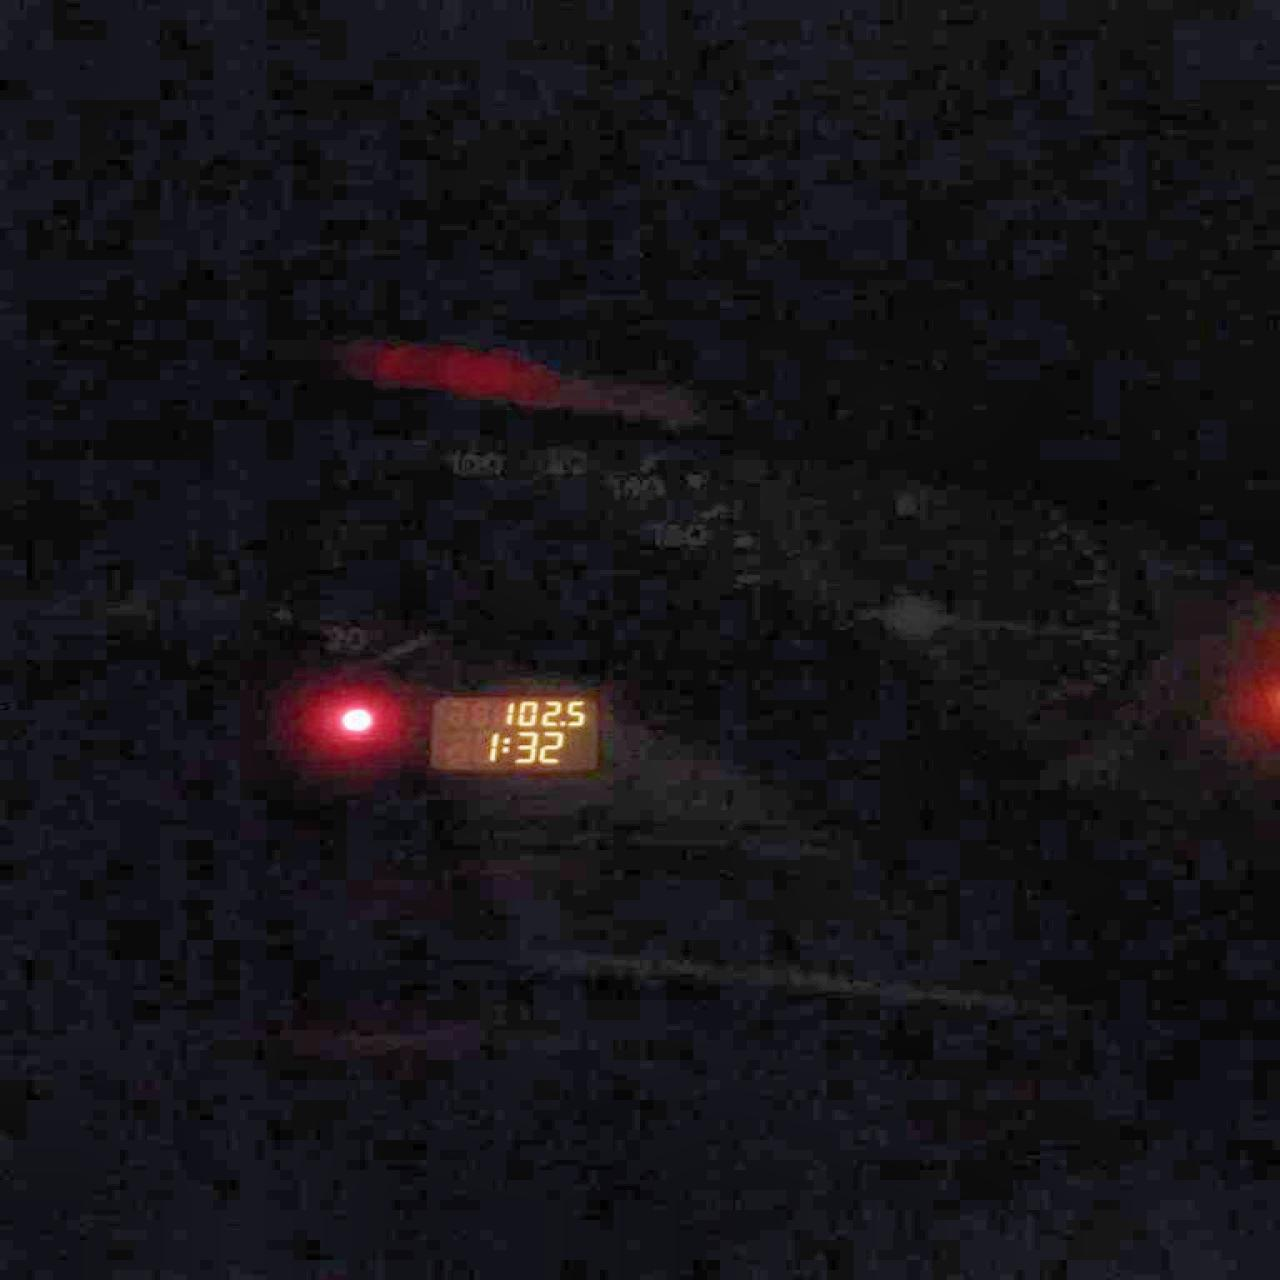-: (558, 719, 565, 728)
0: (515, 697, 535, 724)
1: (485, 730, 497, 764), (504, 699, 513, 723)
2: (538, 730, 561, 764), (539, 700, 558, 726)
3: (515, 730, 535, 762)
5: (567, 700, 585, 726)
X: (501, 735, 510, 754)
odometer: (427, 693, 600, 774)
